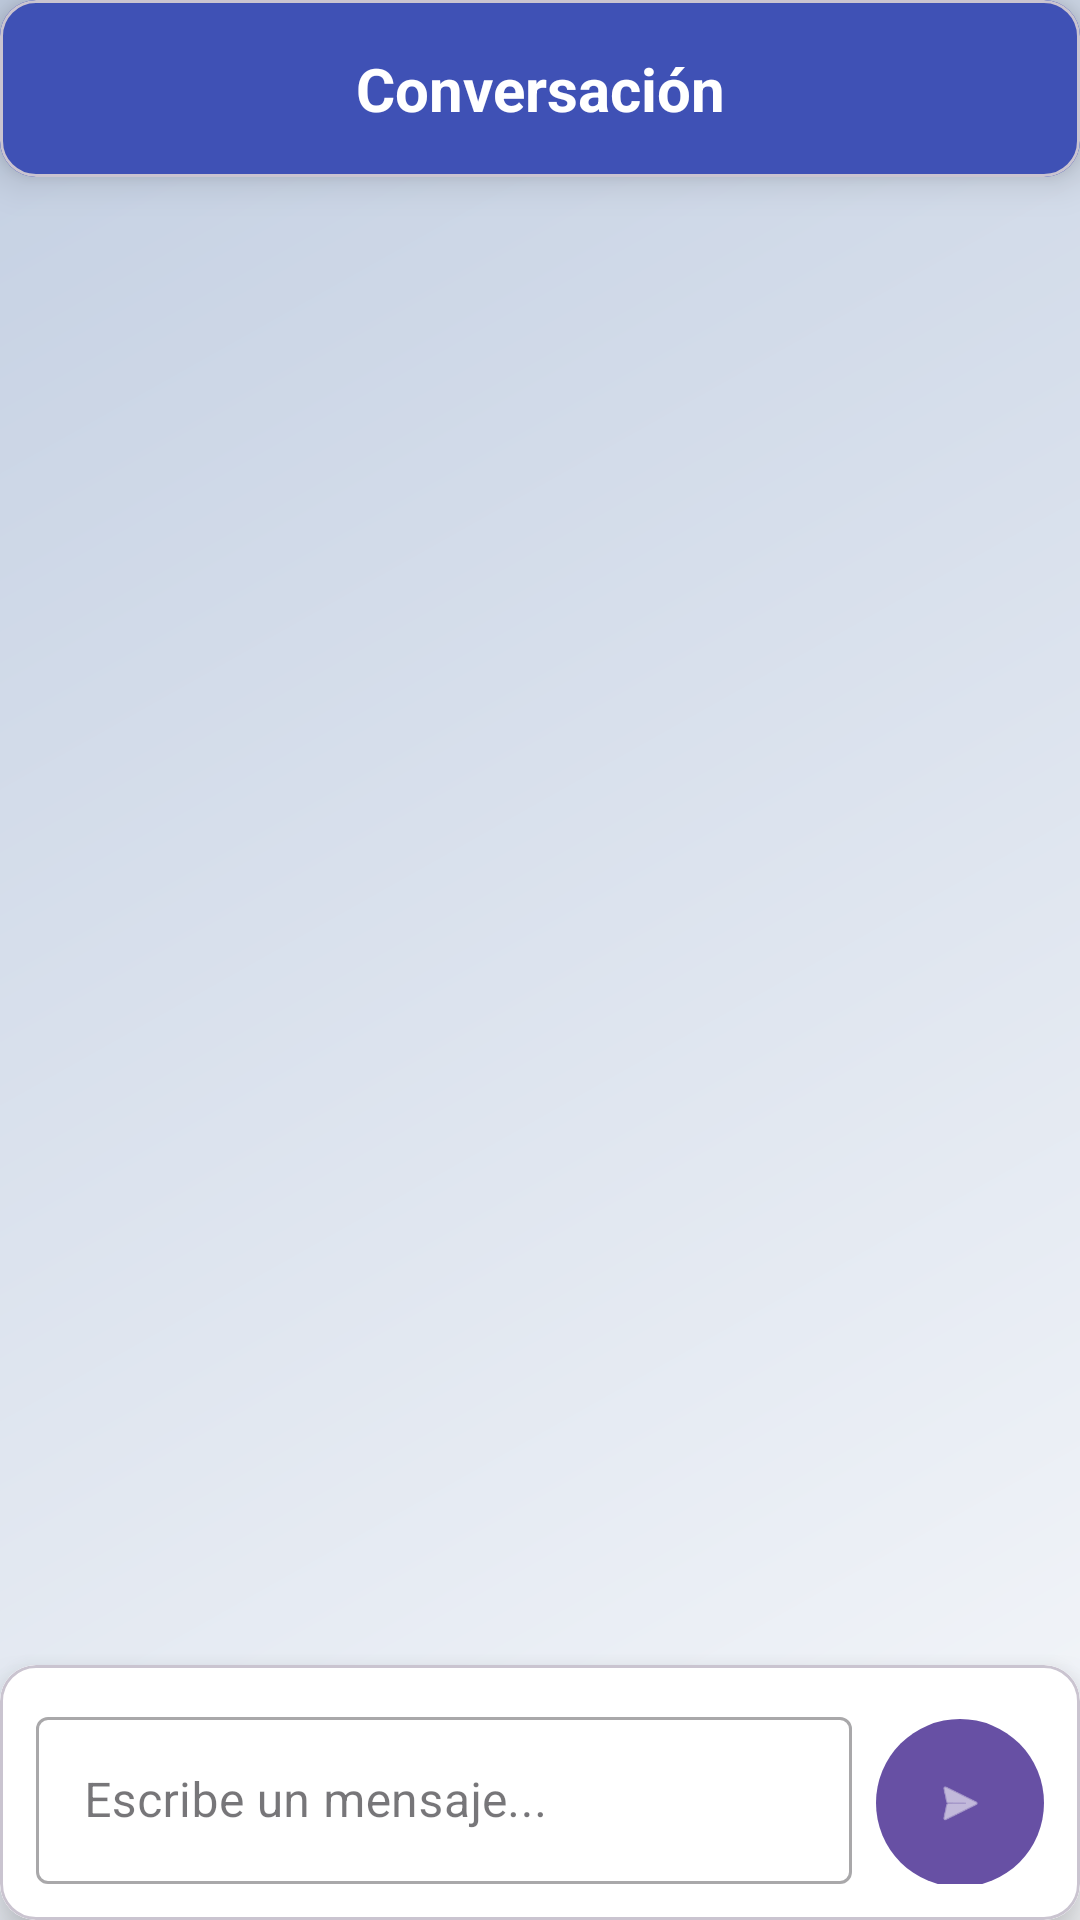

Icons on this 1080x1920 Android screen, each with its box as (x1, y1, x2, y2):
Enviar mensaje: (876, 1719, 1044, 1884)
